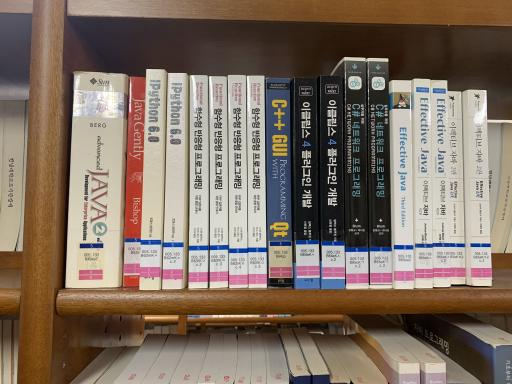book-spine: (66, 72, 124, 288), (368, 58, 392, 289), (294, 78, 320, 288), (267, 78, 293, 287), (140, 69, 164, 290), (345, 58, 368, 288), (321, 75, 345, 289), (123, 77, 146, 286), (163, 73, 185, 289), (468, 90, 492, 286), (247, 76, 267, 288), (393, 80, 413, 289), (188, 75, 207, 288), (229, 75, 248, 288), (432, 80, 451, 288), (210, 76, 228, 288), (415, 79, 433, 288), (448, 91, 466, 284)
